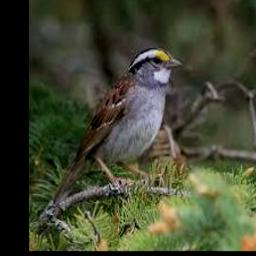Sparrow: (52, 47, 183, 209)
